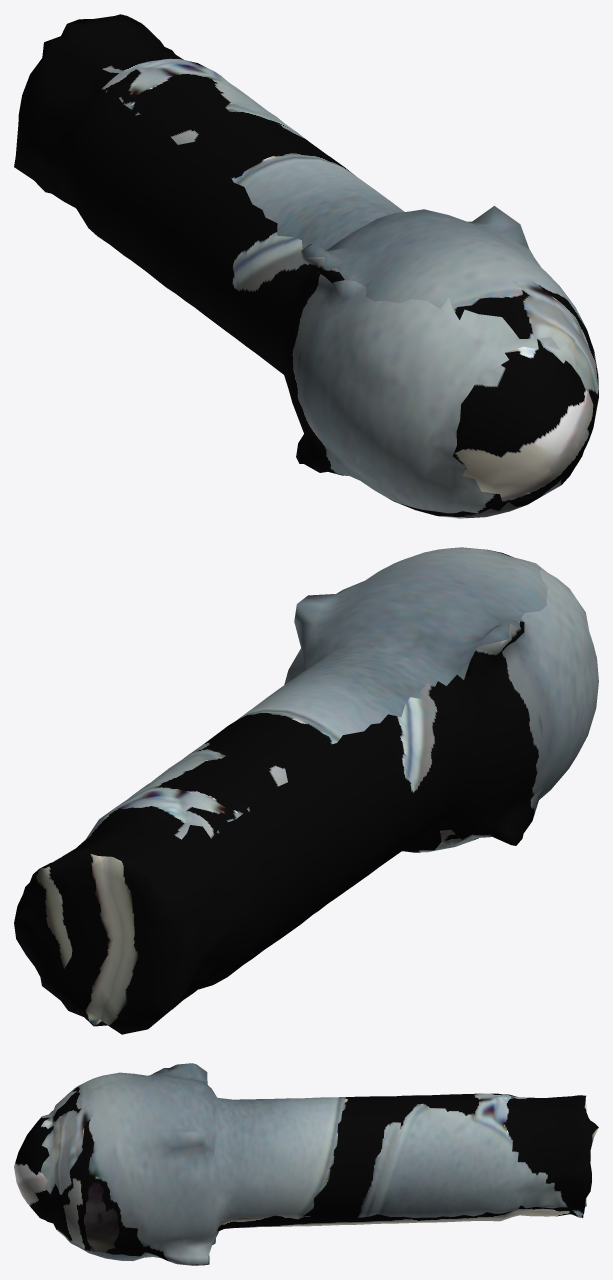
Rendered from scan_align.obj.
3 views of the same model, one above another, from view 1: azimuth 30°, elevation 25°; view 2: azimuth 150°, elevation 25°; view 3: azimuth 270°, elevation 25° (orthographic). The views are drawn at different scales.
Size of the model in its own units: 0.0285 by 0.0286 by 0.0927.
